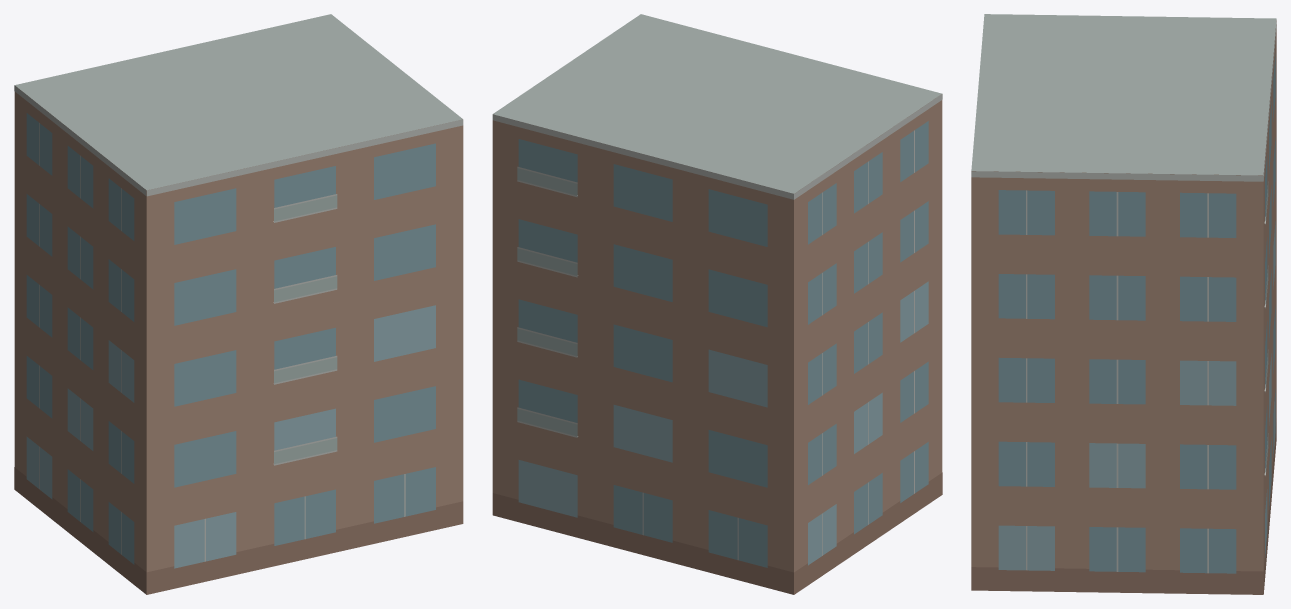
Rendered from survey-upis-32877322.glb.
3 renders of one model, left to right at view 1: azimuth 30°, elevation 25°; view 2: azimuth 150°, elevation 25°; view 3: azimuth 270°, elevation 25°, orthographic. The views are drawn at different scales.
Parts seen in each view (by area): view 1: survey-upis-32877322.tmp; view 2: survey-upis-32877322.tmp; view 3: survey-upis-32877322.tmp.
Boxes of the visible parts, <box> form: survey-upis-32877322.tmp: <box>14,14,463,594</box>; survey-upis-32877322.tmp: <box>492,14,942,594</box>; survey-upis-32877322.tmp: <box>971,14,1276,594</box>.
Bounding box in the file's own units: 13.38 × 16.2 × 10.7.
